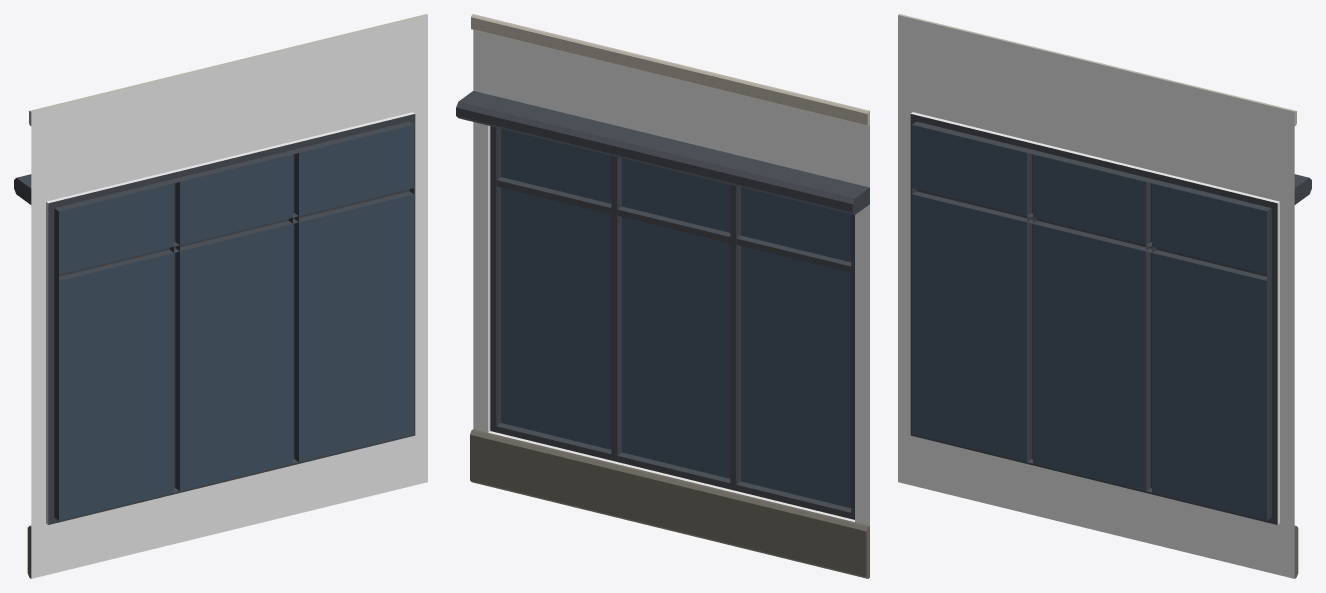
The model's file is off_ground_glass.glb.
3 views of the same model, side by side, from view 1: azimuth 30°, elevation 25°; view 2: azimuth 150°, elevation 25°; view 3: azimuth 330°, elevation 25° (orthographic).
Parts seen in each view (by area): view 1: off_ground_glass__mesh; view 2: off_ground_glass__mesh; view 3: off_ground_glass__mesh.
Part boxes in pixels (<box>): off_ground_glass__mesh: <box>14,14,427,578</box>; off_ground_glass__mesh: <box>456,14,869,578</box>; off_ground_glass__mesh: <box>898,14,1311,578</box>.
Size of what is drawn, in the model's own units: 4 by 4.5 by 0.42.
2 materials, 1 textured.
